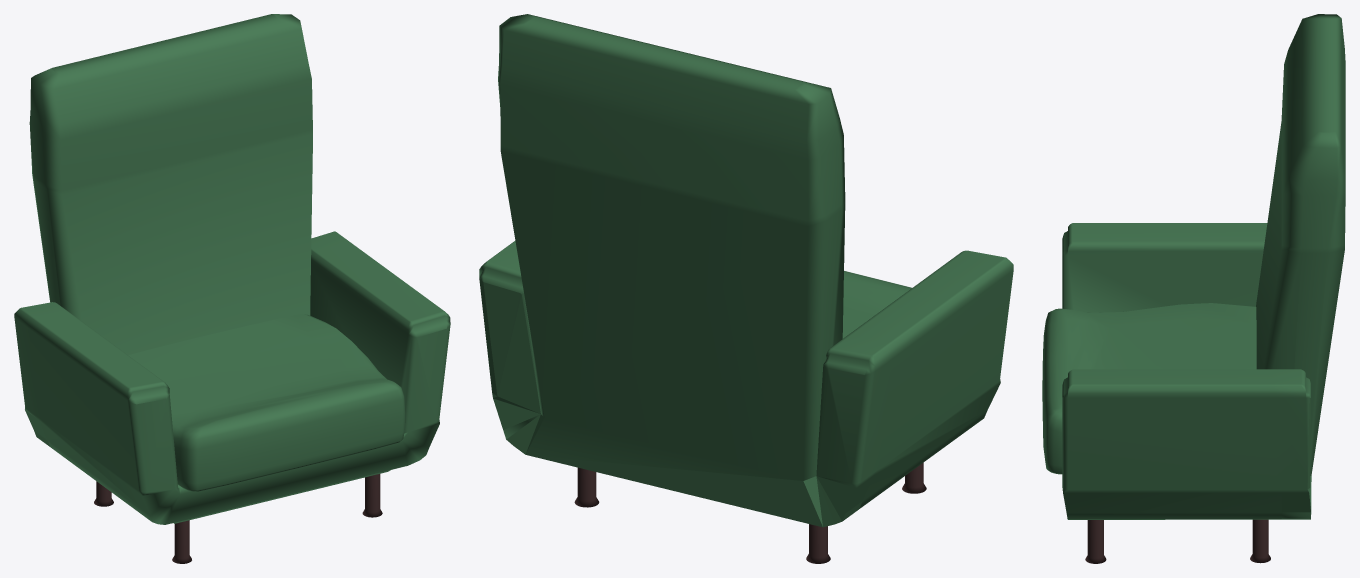
File: fauteuil.fbx
3 renders of one model, left to right at view 1: azimuth 30°, elevation 25°; view 2: azimuth 150°, elevation 25°; view 3: azimuth 270°, elevation 25°, orthographic. The views are drawn at different scales.
Parts seen in each view (by area): view 1: pCylinder5; view 2: pCylinder5; view 3: pCylinder5.
Part boxes in pixels (x1,y1,x2,y2): pCylinder5: (14, 14, 450, 563); pCylinder5: (479, 14, 1013, 563); pCylinder5: (1042, 14, 1345, 563).
Bounding box in the file's own units: 475 × 580 × 367.
